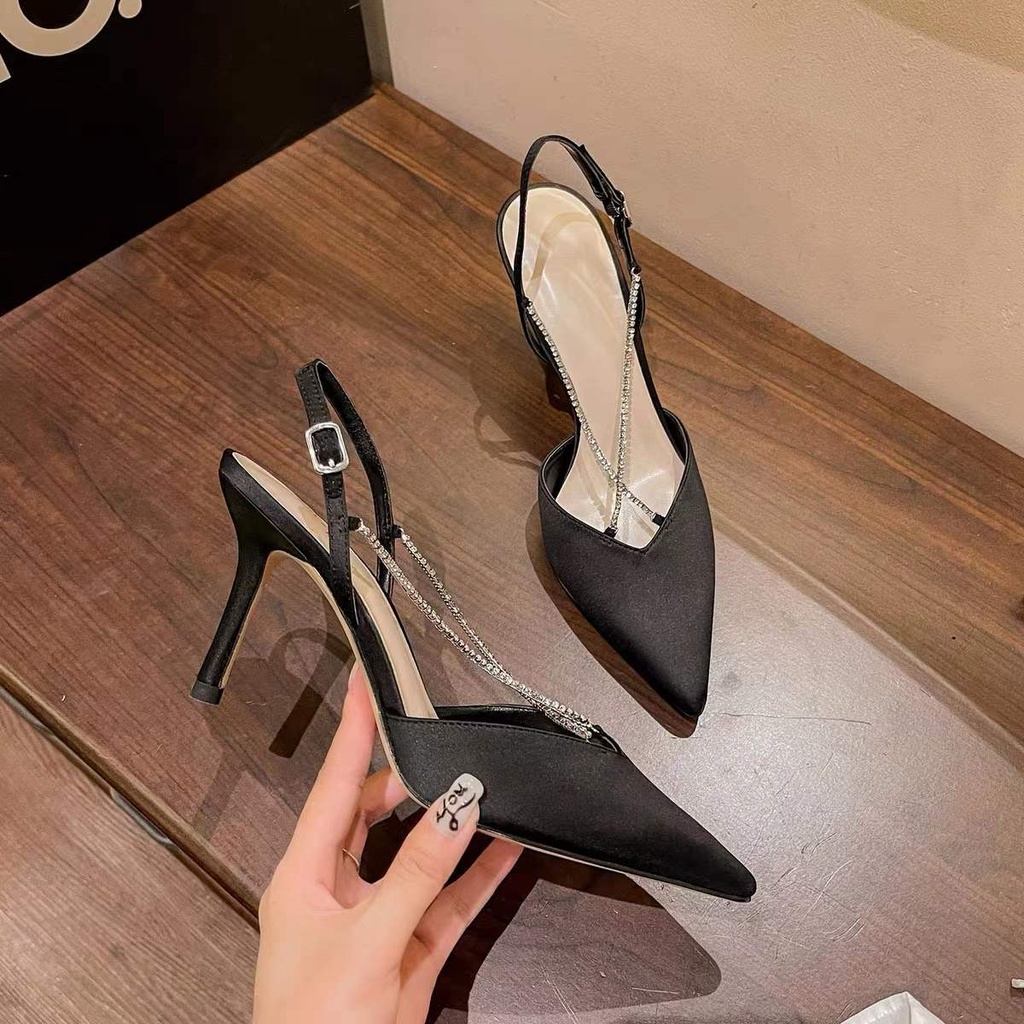high heels: (187, 358, 761, 908), (499, 133, 722, 722)
